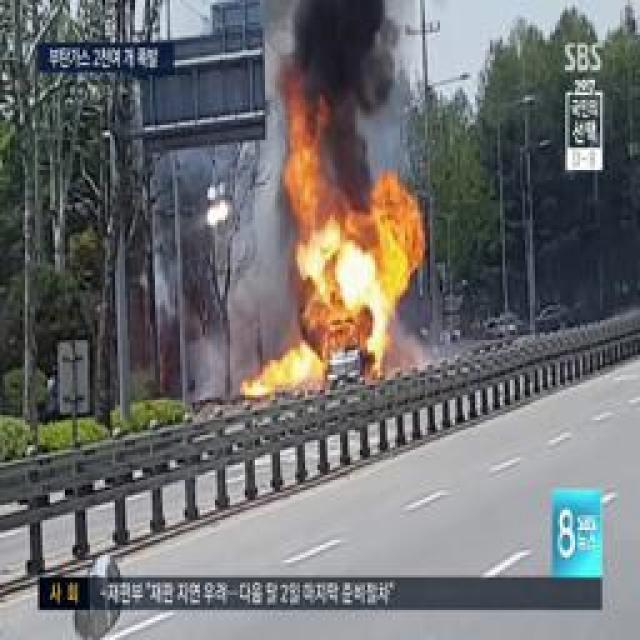Fire: (306, 204, 426, 324), (261, 353, 327, 399)
